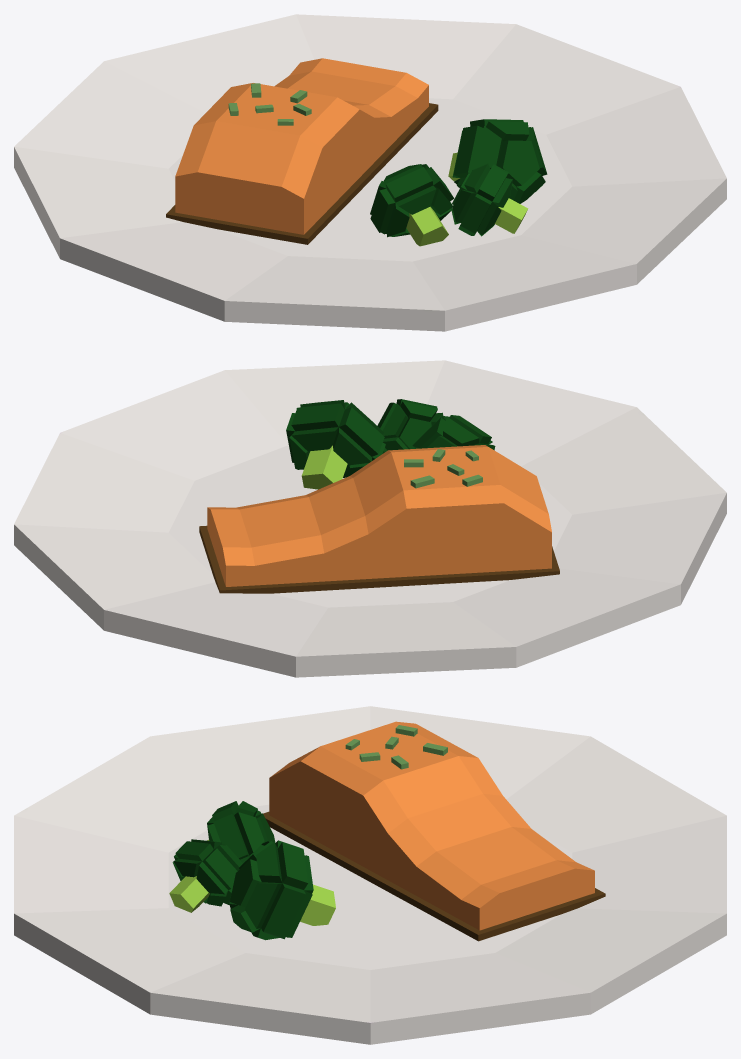
File: salmon.fbx
The picture shows the model from 3 angles, top to bottom: view 1: azimuth 30°, elevation 25°; view 2: azimuth 150°, elevation 25°; view 3: azimuth 270°, elevation 25°; orthographic projection. The views are drawn at different scales.
Parts seen in each view (by area): view 1: salmon_brogli; view 2: salmon_brogli; view 3: salmon_brogli.
Part boxes in pixels (<box>): salmon_brogli: <box>14,14,726,331</box>; salmon_brogli: <box>14,360,726,677</box>; salmon_brogli: <box>14,706,726,1044</box>.
Bounding box in the file's own units: 2.96 × 0.5479 × 2.82.
